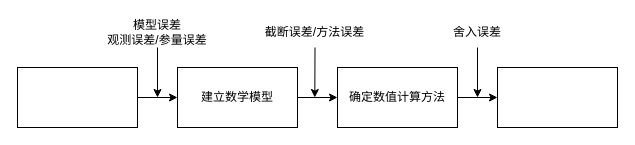
Image size: 635x145. Some labels were removed from this diagram. The shapes that lost their labels are listed below. From the top down, each one's box as (x1, y1, x2, y2) in pixels, then its label:
(16, 66, 138, 128): 实际问题
(496, 66, 618, 128): 编程算出结果
